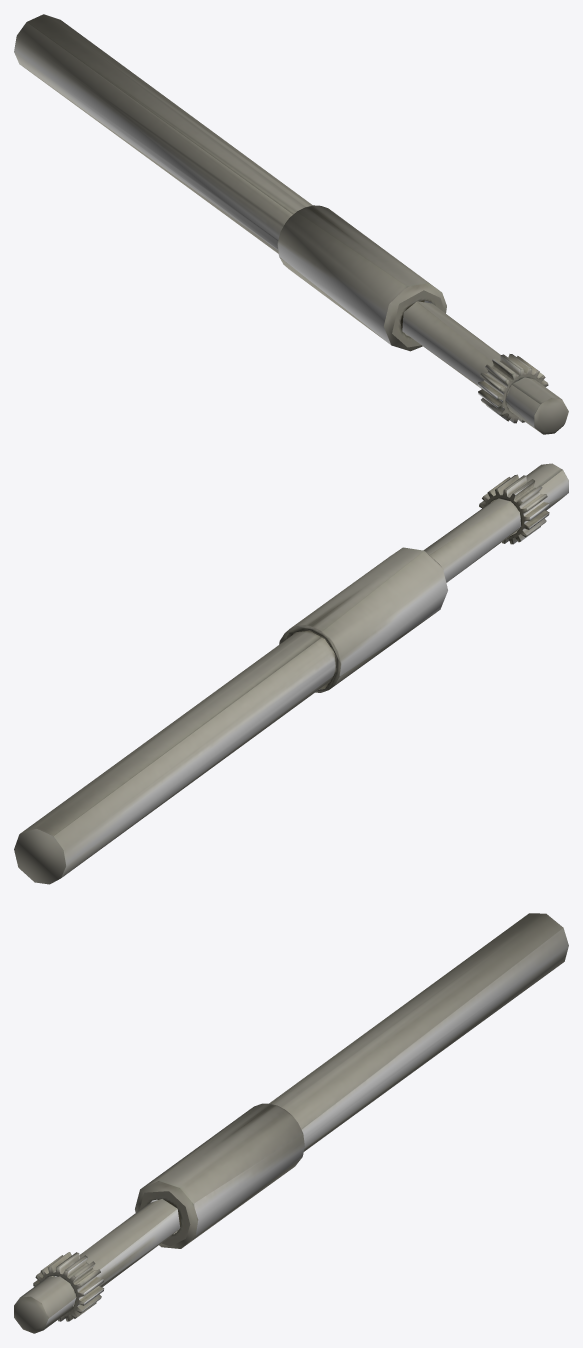
3 views of the same model, one above another, from view 1: azimuth 30°, elevation 25°; view 2: azimuth 150°, elevation 25°; view 3: azimuth 330°, elevation 25° (orthographic).
Visible parts, largest first — view 1: Eje.010_Mesh.048; view 2: Eje.010_Mesh.048; view 3: Eje.010_Mesh.048.
Part boxes in pixels (box(x1,y1,x2,y2)): Eje.010_Mesh.048: box(14, 14, 568, 434); Eje.010_Mesh.048: box(14, 463, 568, 884); Eje.010_Mesh.048: box(14, 913, 568, 1333).
Size of the model in its own units: 0.0479 by 0.0476 by 0.6722.
1 material, 1 textured.
